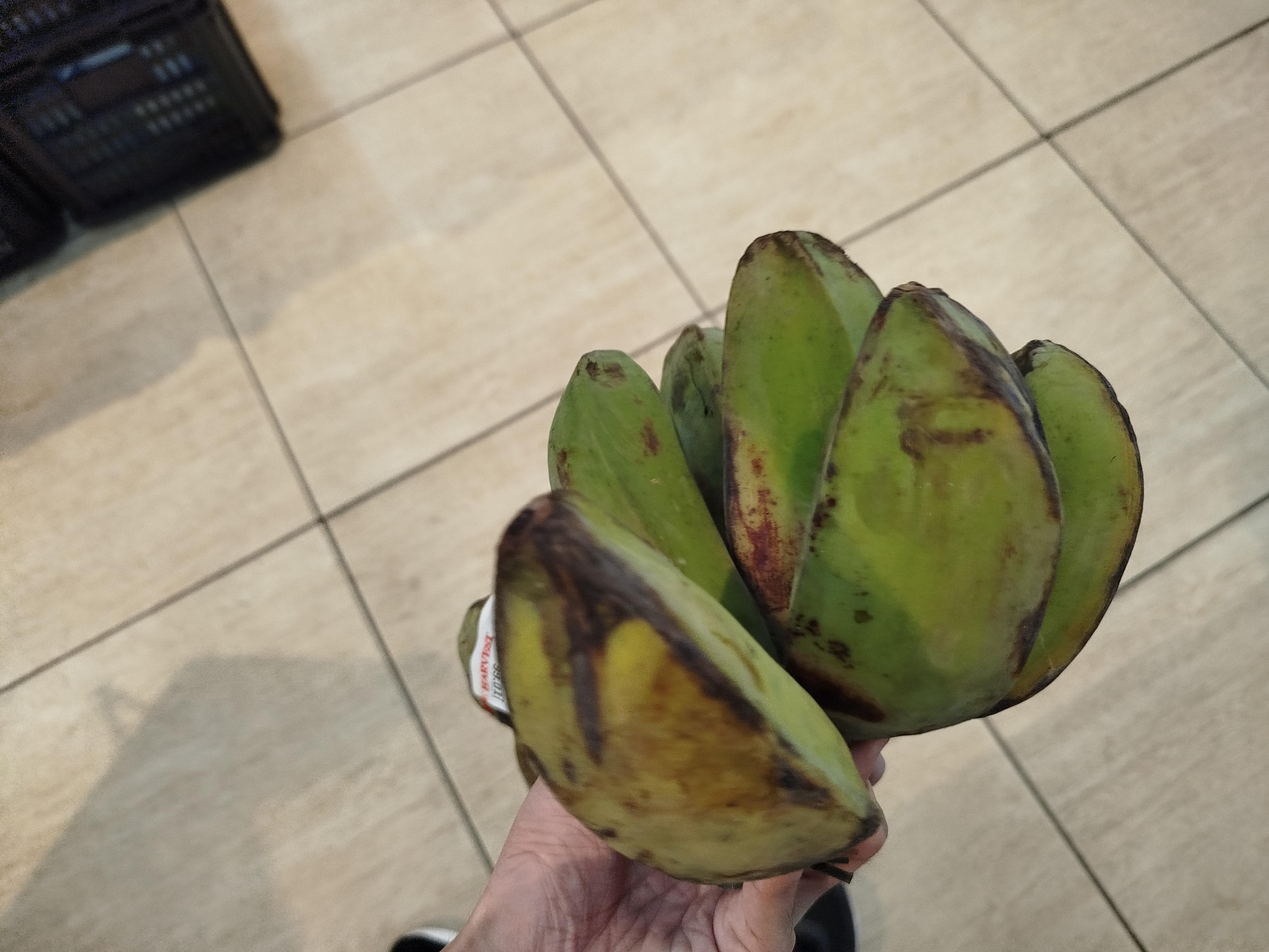underripe: (458, 232, 1143, 887)
